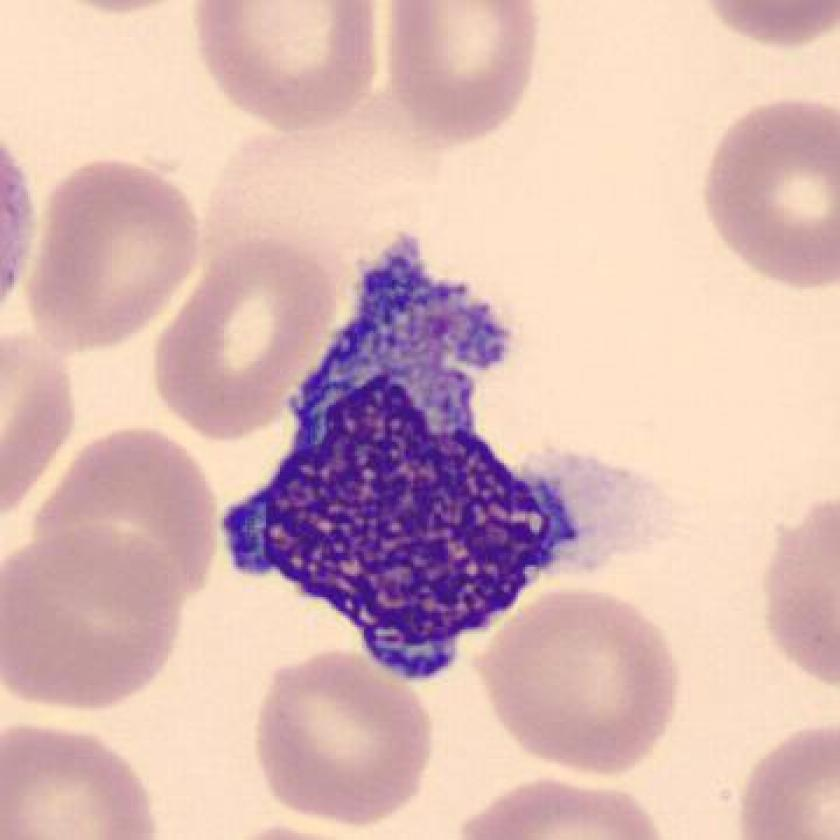monocyte: (195, 216, 617, 695)
